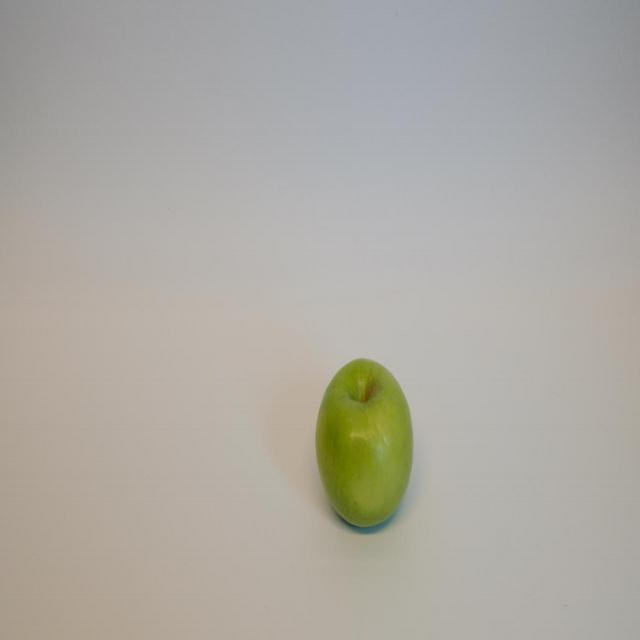apple: (314, 356, 414, 530)
